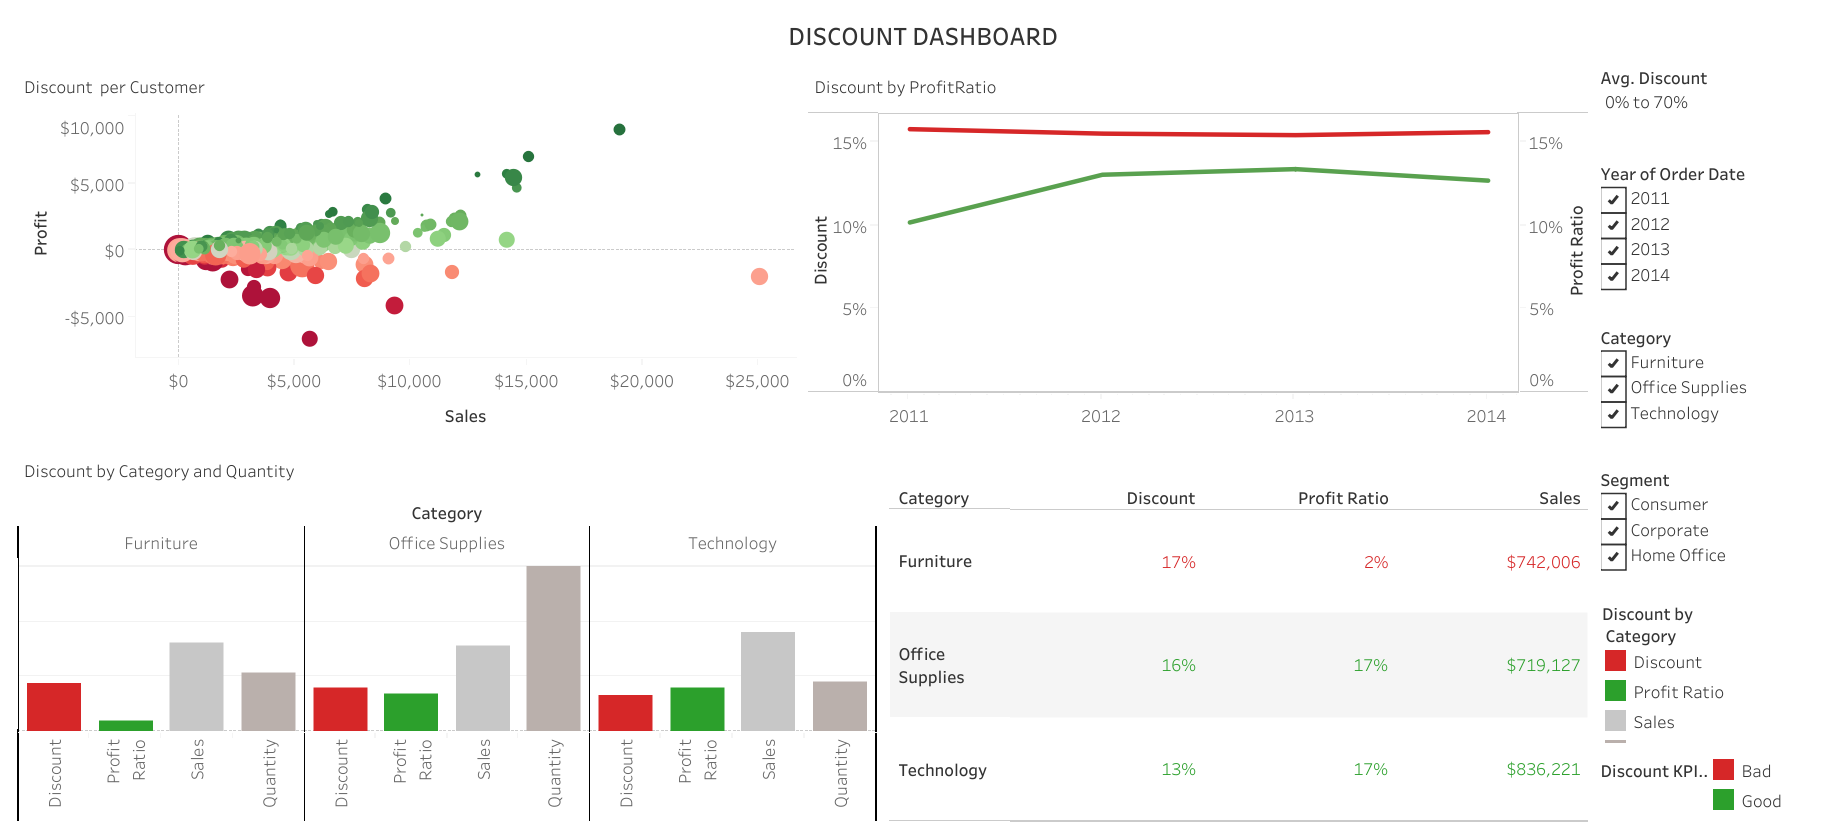

Layout of this report page (visuals, bound fields, positions):
{"tool":"tableau","page":{"name":"Discount Dashboard","canvas":[1000,1000],"units":"permille","ordinal":1},"visuals":[{"type":"title","box":[5,9.9,990,50.9]},{"type":"worksheet","title":"Discount  per Customer","mark":"Automatic","rows":["Profit"],"cols":["Sales"],"box":[5,60.8,445,464.5]},{"type":"worksheet","title":"Discount by ProfitRatio","mark":"Automatic","rows":["Discount","Profit Ratio (copy)_952511376038354944"],"cols":["Order Date"],"box":[449.9,60.8,445.3,464.5]},{"type":"filter","title":"Discount  per Customer","param":"[federated.1c5el7i1o3kzy01cdtmlf0tll55k].[avg:Discount:qk]","box":[895.3,60.8,99.8,79.4]},{"type":"filter","title":"Discount by ProfitRatio","param":"[federated.1c5el7i1o3kzy01cdtmlf0tll55k].[yr:Order Date:ok]","box":[895.3,140.2,99.8,135.2]},{"type":"filter","title":"Discount by ProfitRatio","param":"[federated.1c5el7i1o3kzy01cdtmlf0tll55k].[none:Category:nk]","box":[895.3,275.4,99.8,117.9]},{"type":"filter","title":"Discount by ProfitRatio","param":"[federated.1c5el7i1o3kzy01cdtmlf0tll55k].[none:Segment:nk]","box":[895.3,393.3,99.8,109.2]},{"type":"legend","title":"Discount by Category and Quantity","param":"[federated.1c5el7i1o3kzy01cdtmlf0tll55k].[:Measure Names]","box":[895.3,502.5,99.8,129]},{"type":"worksheet","title":"Discount by Category and Quantity","mark":"Bar","cols":["Category"],"box":[5,525.3,490.5,464.8]},{"type":"worksheet","title":"Discount KPI","mark":"Automatic","rows":["Category"],"box":[495.5,525.3,399.8,464.8]},{"type":"legend","title":"Discount KPI","param":"[federated.1c5el7i1o3kzy01cdtmlf0tll55k].[usr:Discount (copy)_476818672374280193","box":[895.3,631.6,99.8,122.8]}]}

Visuals, with their boxes on the dashboard's canvas, which has no fixed pixel size, in thousandths of its width and height (x1, y1, x2, y2). These are canvas units, not pixel positions in the 1845x839 screenshot, which may show the page scaled, cropped or inside an application window:
title: region(5, 10, 995, 61)
"Discount  per Customer" worksheet: region(5, 61, 450, 525)
"Discount by ProfitRatio" worksheet: region(450, 61, 895, 525)
"Discount  per Customer" filter: region(895, 61, 995, 140)
"Discount by ProfitRatio" filter: region(895, 140, 995, 275)
"Discount by ProfitRatio" filter: region(895, 275, 995, 393)
"Discount by ProfitRatio" filter: region(895, 393, 995, 502)
"Discount by Category and Quantity" legend: region(895, 502, 995, 632)
"Discount by Category and Quantity" worksheet (Bar marks): region(5, 525, 496, 990)
"Discount KPI" worksheet: region(496, 525, 895, 990)
"Discount KPI" legend: region(895, 632, 995, 754)
